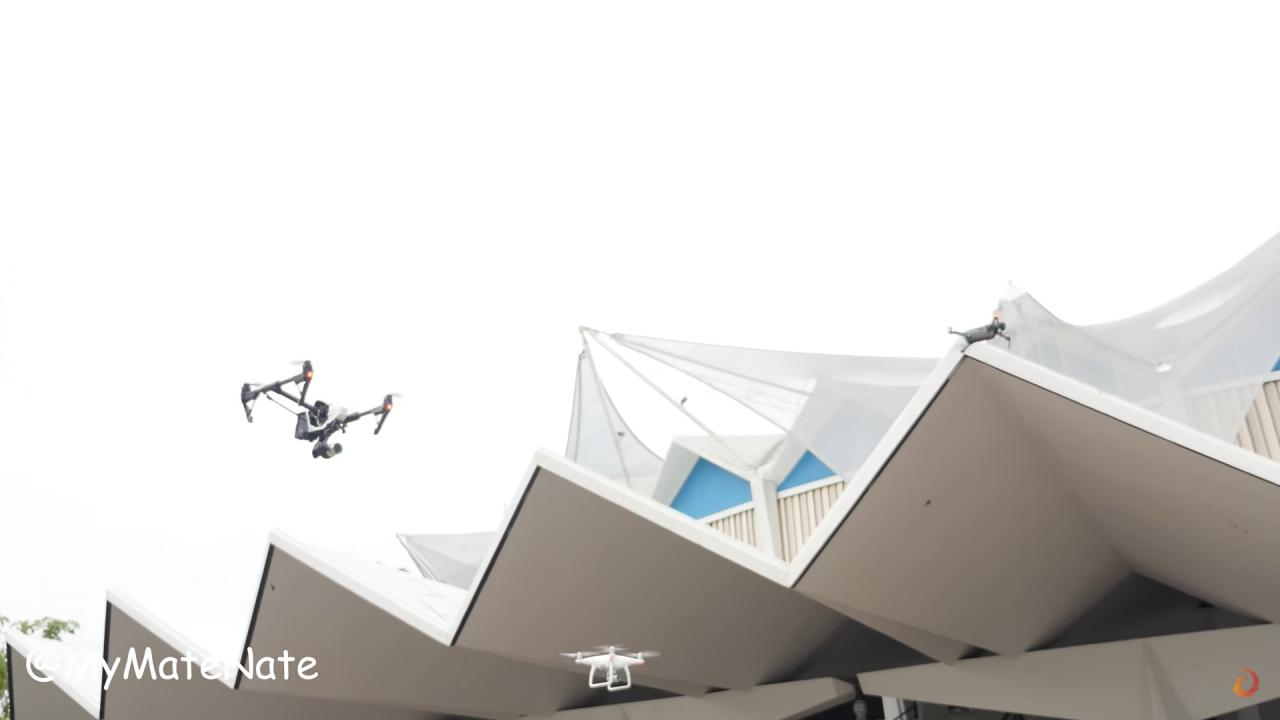Drone: (226, 348, 408, 472), (550, 638, 669, 697), (942, 308, 1017, 362)
